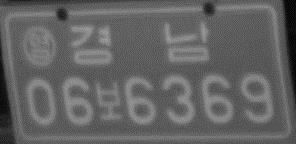0: (26, 76, 58, 128)
3: (161, 74, 195, 126)
6: (124, 75, 158, 126), (61, 75, 94, 127), (201, 72, 234, 124)
9: (238, 72, 275, 125)
경남_D: (68, 18, 211, 67)
보: (94, 78, 124, 123)
영: (21, 25, 58, 68)
